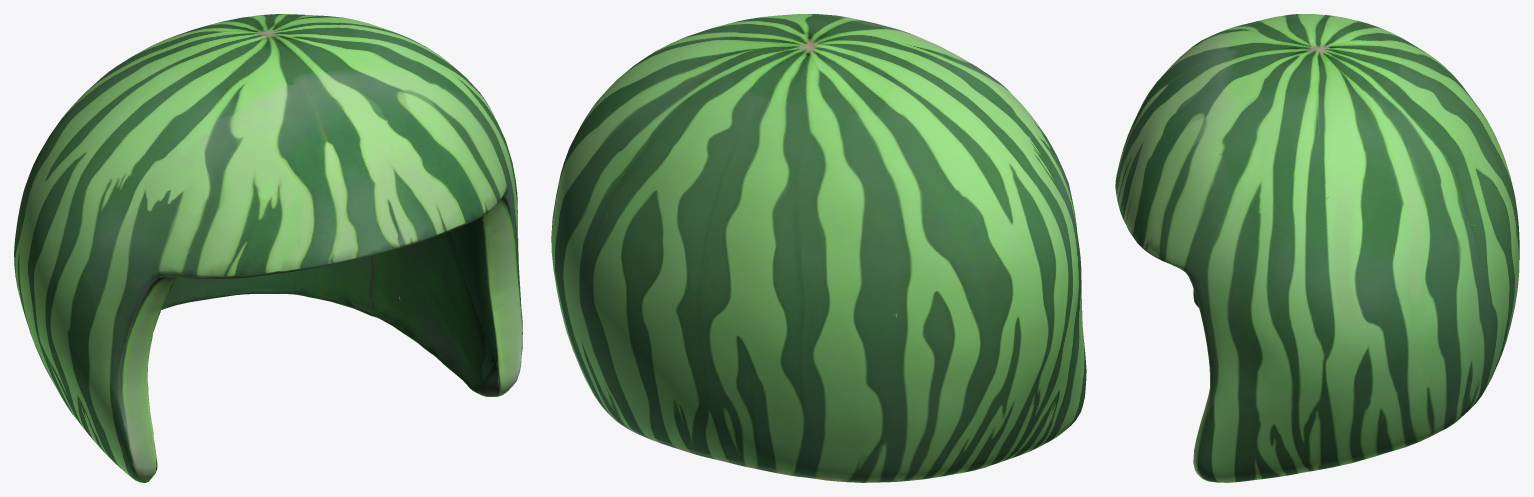
Rendered from Watermelon.glb.
3 views of the same model, side by side, from view 1: azimuth 30°, elevation 25°; view 2: azimuth 150°, elevation 25°; view 3: azimuth 270°, elevation 25° (orthographic). The views are drawn at different scales.
Visible parts, largest first — view 1: Watermelon; view 2: Watermelon; view 3: Watermelon.
Boxes of the visible parts, x1=… form: Watermelon: x1=14, y1=14, x2=522, y2=482; Watermelon: x1=551, y1=14, x2=1086, y2=482; Watermelon: x1=1115, y1=14, x2=1519, y2=482.
Bounding box in the file's own units: 0.6921 × 0.5301 × 0.5473.
Materials: 1 (1 with a texture image).
